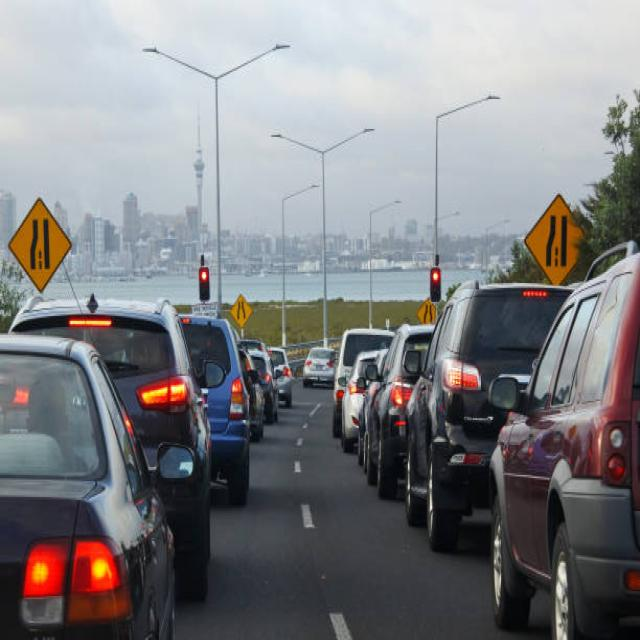Ad-signs: (7, 195, 71, 292), (523, 192, 583, 284), (229, 293, 251, 327)
Car: (487, 242, 639, 639), (0, 330, 177, 637), (403, 278, 574, 552)
Traffic-light: (198, 266, 210, 300), (429, 266, 440, 302)
